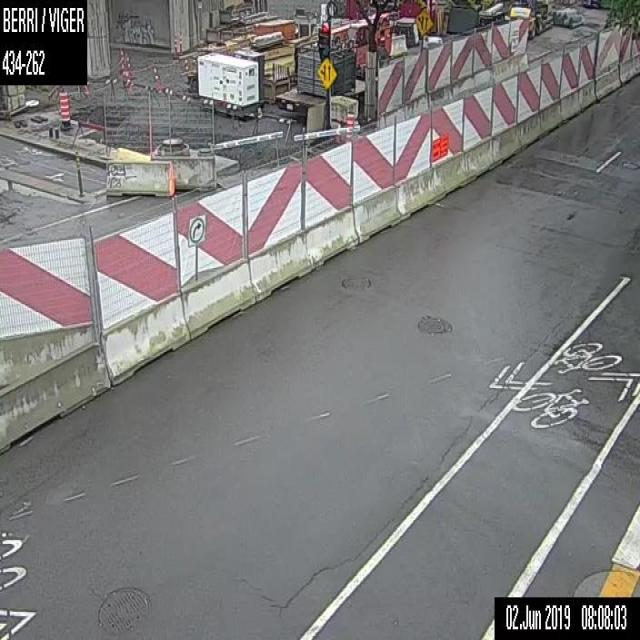construction: (56, 87, 70, 129), (74, 155, 84, 196), (346, 106, 356, 142)
